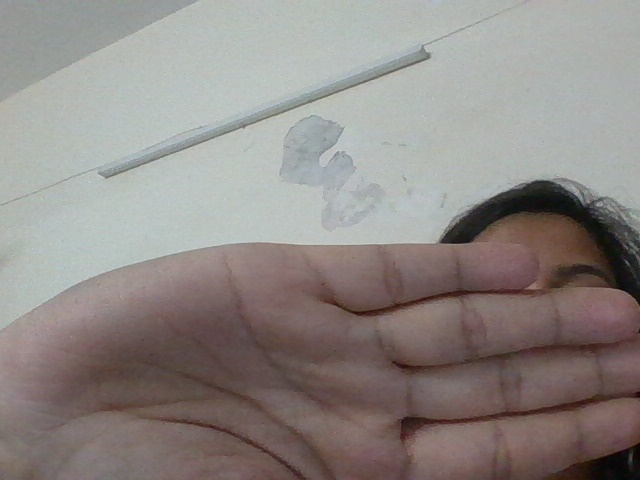rewind: (14, 234, 638, 476)
